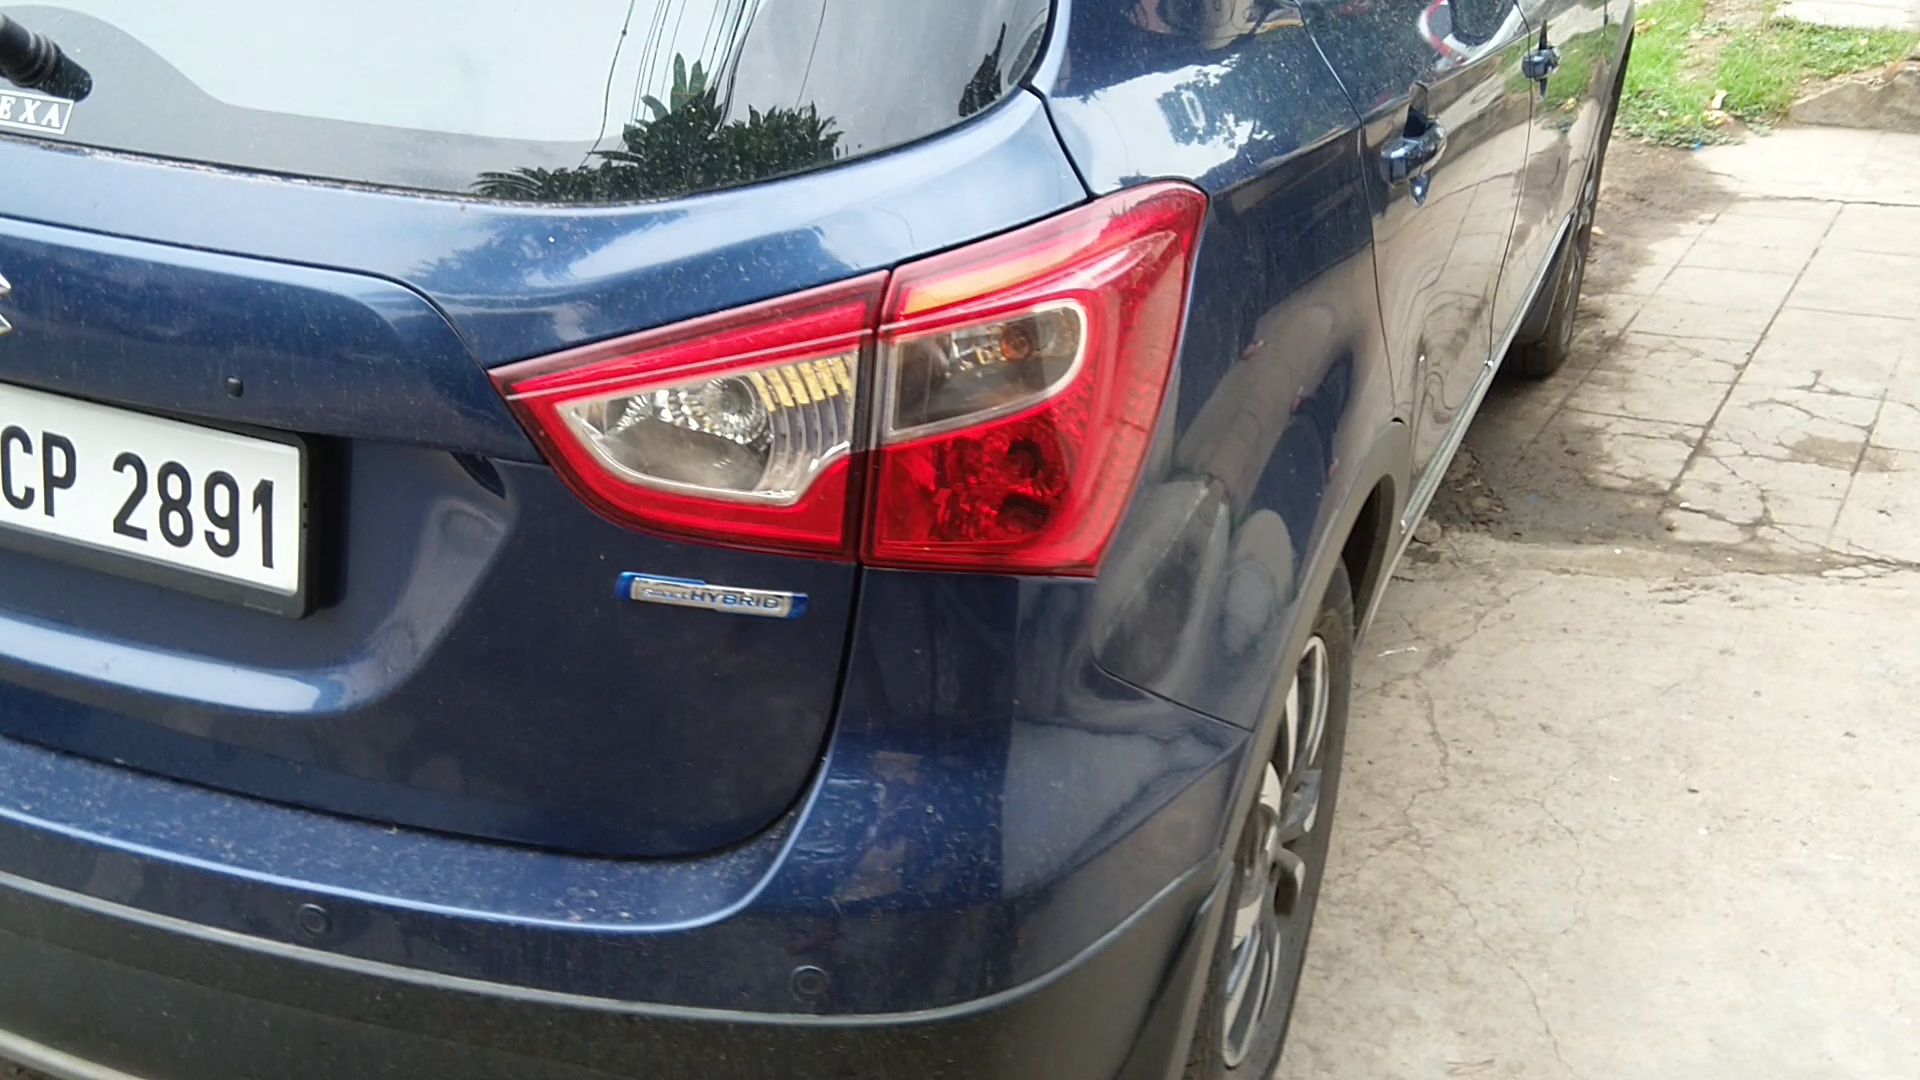alloy_wheel: (1179, 585, 1364, 1080)
shvs: (591, 568, 829, 632)
